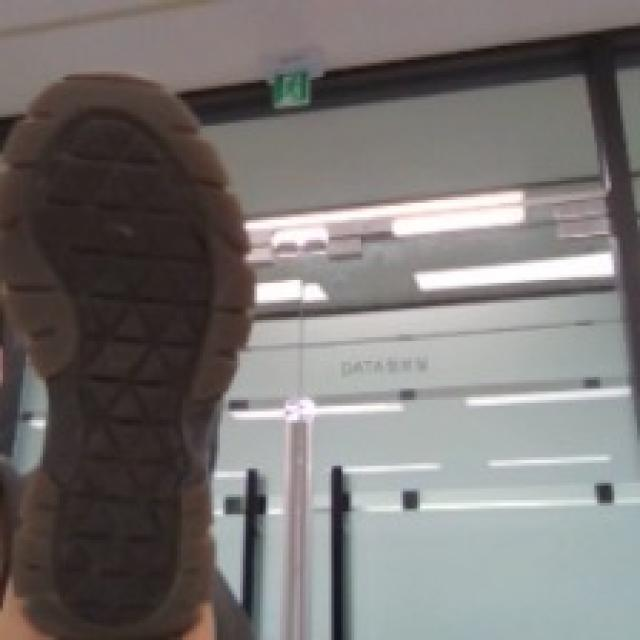shoe: (7, 44, 274, 640)
